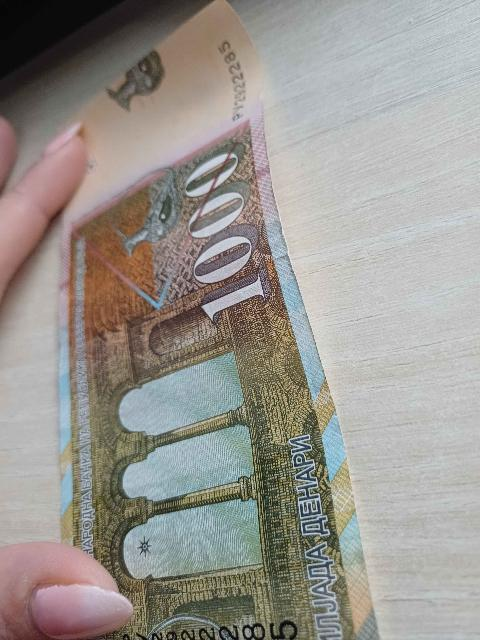note: (34, 0, 381, 639)
